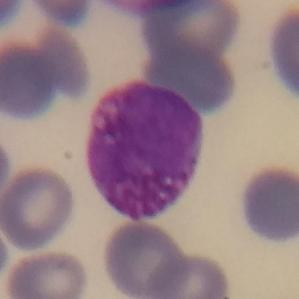Basophil: (79, 72, 211, 230)
RBC: (137, 37, 237, 120), (99, 218, 188, 299), (0, 163, 78, 252), (140, 0, 246, 64), (0, 38, 68, 124), (237, 162, 299, 244), (146, 250, 234, 298), (6, 252, 93, 299), (37, 26, 91, 100), (263, 3, 299, 106), (25, 0, 95, 29), (106, 0, 200, 18), (0, 0, 28, 34), (0, 139, 15, 192), (0, 234, 10, 275)
